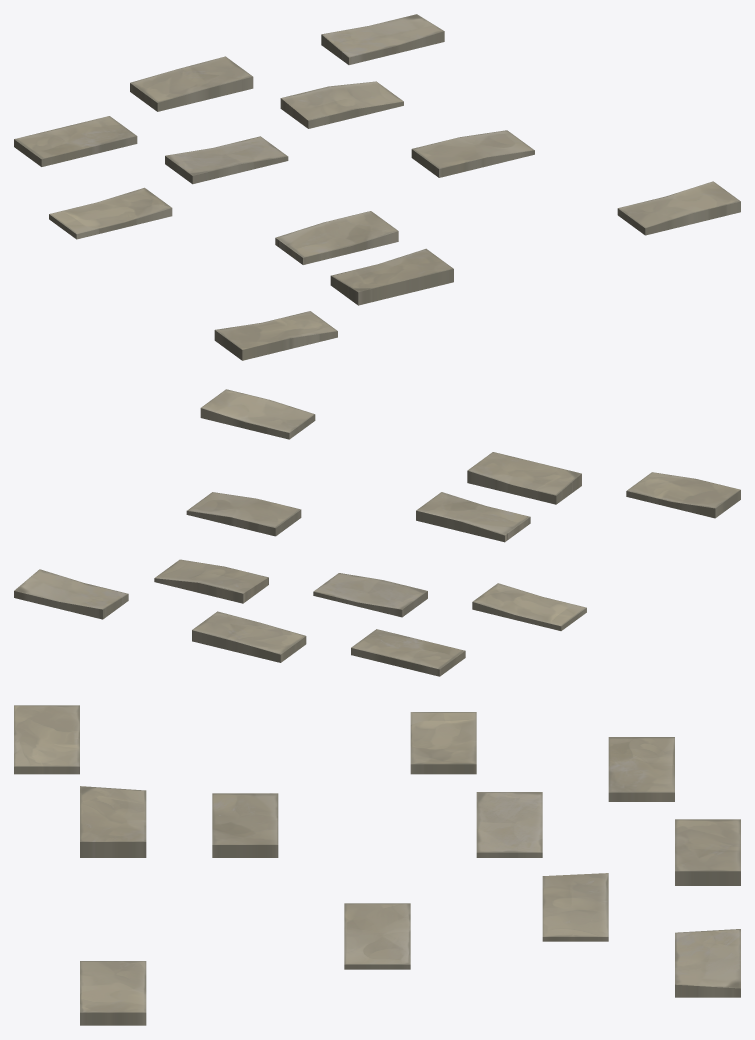
File: Brick_Height.fbx
3 renders of one model, top to bottom at view 1: azimuth 30°, elevation 25°; view 2: azimuth 150°, elevation 25°; view 3: azimuth 270°, elevation 25°, orthographic. The views are drawn at different scales.
Visible parts, largest first — view 1: Brick_Height; view 2: Brick_Height; view 3: Brick_Height.
Boxes of the visible parts, left/top/right/bottom form: Brick_Height: left=14, top=14, right=740, bottom=360; Brick_Height: left=14, top=389, right=740, bottom=676; Brick_Height: left=14, top=705, right=740, bottom=1025.
Bounding box in the file's own units: 0.9167 × 0.0223 × 0.9167.
1 material, 1 textured.
